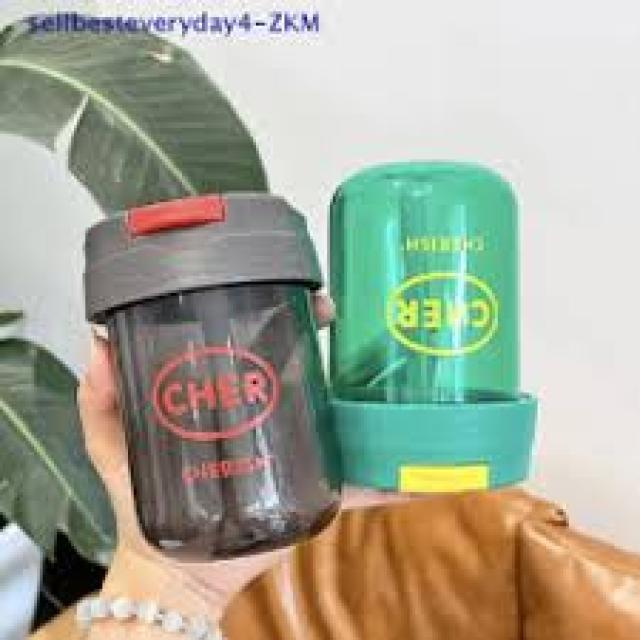defected: (59, 186, 358, 569)
good: (328, 148, 552, 510)
